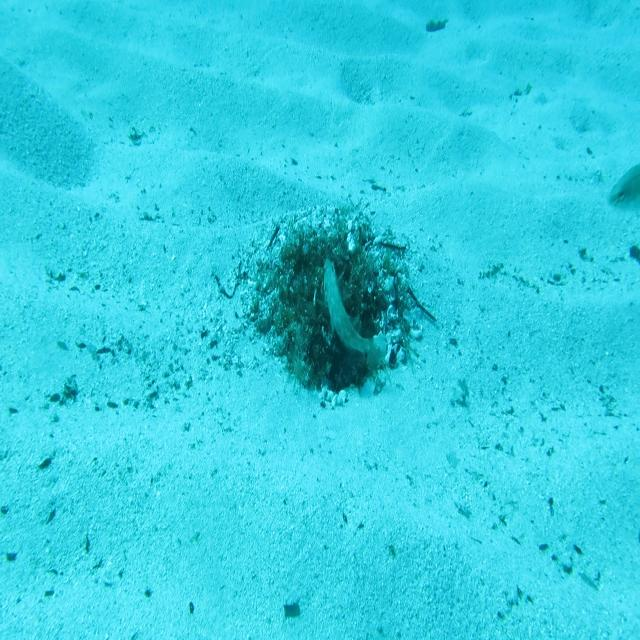FAN: (320, 253, 388, 377)
core_nest: (306, 249, 348, 278)
female: (603, 159, 640, 217)
nest: (235, 196, 432, 417)
vegetation: (423, 16, 448, 36), (284, 595, 300, 620), (628, 242, 640, 265)
